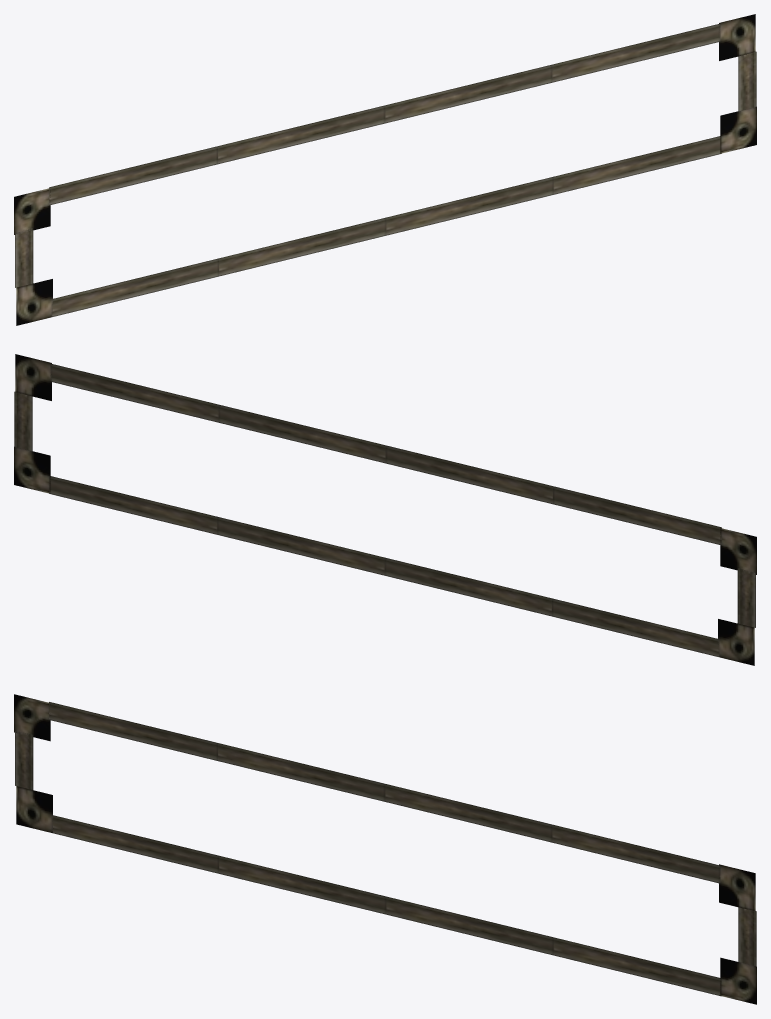
File: gui_title_box.fbx
3 renders of one model, top to bottom at view 1: azimuth 30°, elevation 25°; view 2: azimuth 150°, elevation 25°; view 3: azimuth 330°, elevation 25°, orthographic.
Parts seen in each view (by area): view 1: pPlane47, pPlane50, pPlane131, pPlane132, pPlane48, pPlane49, pPlane133, pPlane134, pPlane52, pPlane53, pPlane51, pPlane46 (+2 smaller); view 2: pPlane50, pPlane131, pPlane47, pPlane134, pPlane132, pPlane48, pPlane49, pPlane133, pPlane53, pPlane51, pPlane52, pPlane46 (+2 smaller); view 3: pPlane47, pPlane50, pPlane131, pPlane133, pPlane48, pPlane132, pPlane49, pPlane134, pPlane53, pPlane52, pPlane51, pPlane46 (+2 smaller).
Part boxes in pixels (<box>): pPlane47: <box>49,146,217,205</box>; pPlane50: <box>552,24,720,82</box>; pPlane131: <box>553,136,721,194</box>; pPlane132: <box>386,176,553,235</box>; pPlane48: <box>218,105,385,164</box>; pPlane49: <box>385,64,552,123</box>; pPlane133: <box>219,217,386,276</box>; pPlane134: <box>51,258,218,316</box>; pPlane52: <box>16,279,52,325</box>; pPlane53: <box>720,106,756,153</box>; pPlane51: <box>719,14,755,60</box>; pPlane46: <box>14,188,50,234</box>; pPlane50: <box>50,363,218,422</box>; pPlane131: <box>49,475,217,534</box>; pPlane47: <box>553,486,721,544</box>; pPlane134: <box>552,598,719,656</box>; pPlane132: <box>217,516,384,575</box>; pPlane48: <box>385,445,552,504</box>; pPlane49: <box>218,404,385,463</box>; pPlane133: <box>384,557,551,616</box>; pPlane53: <box>14,446,50,493</box>; pPlane51: <box>15,354,51,400</box>; pPlane52: <box>718,619,754,665</box>; pPlane46: <box>720,528,756,574</box>; pPlane47: <box>49,702,217,760</box>; pPlane50: <box>552,824,720,883</box>; pPlane131: <box>553,937,721,996</box>; pPlane133: <box>219,855,386,914</box>; pPlane48: <box>218,743,385,801</box>; pPlane132: <box>386,896,553,955</box>; pPlane49: <box>385,784,552,842</box>; pPlane134: <box>51,815,218,873</box>; pPlane53: <box>720,957,756,1004</box>; pPlane52: <box>16,786,52,832</box>; pPlane51: <box>719,864,755,910</box>; pPlane46: <box>14,694,50,741</box>.
Bounding box in the file's own units: 258 × 43.62 × 7.11e-06.
1 material, 1 textured.
